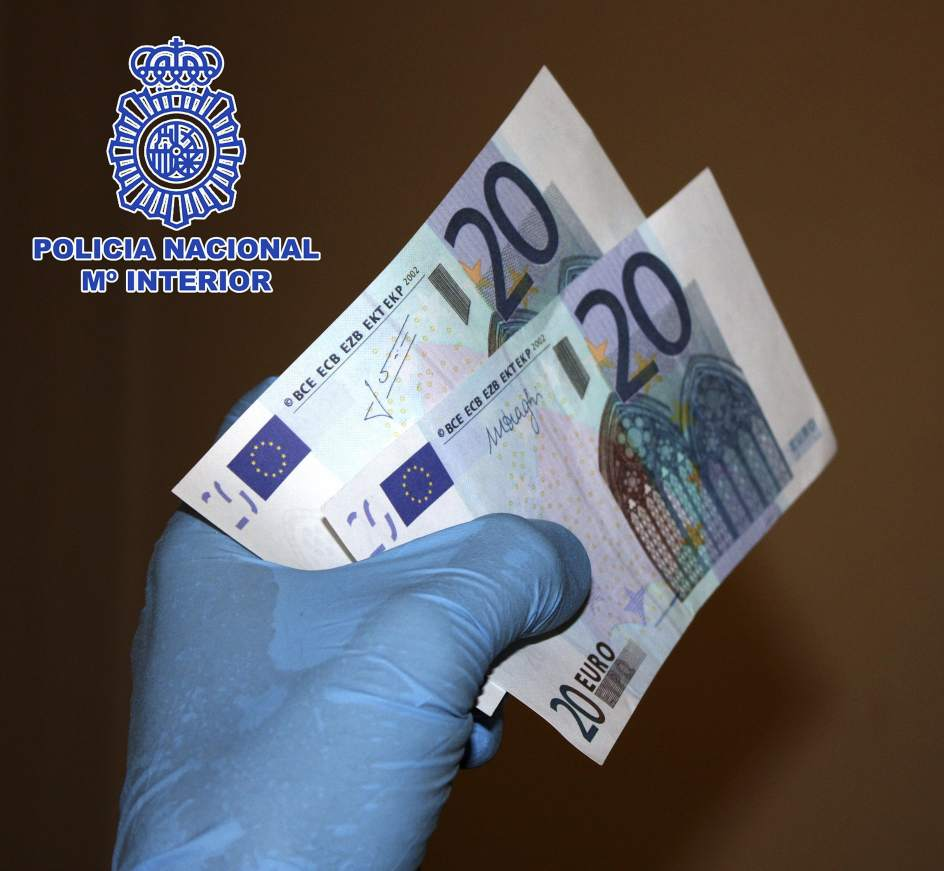billete: (320, 167, 840, 765), (172, 64, 651, 572)
